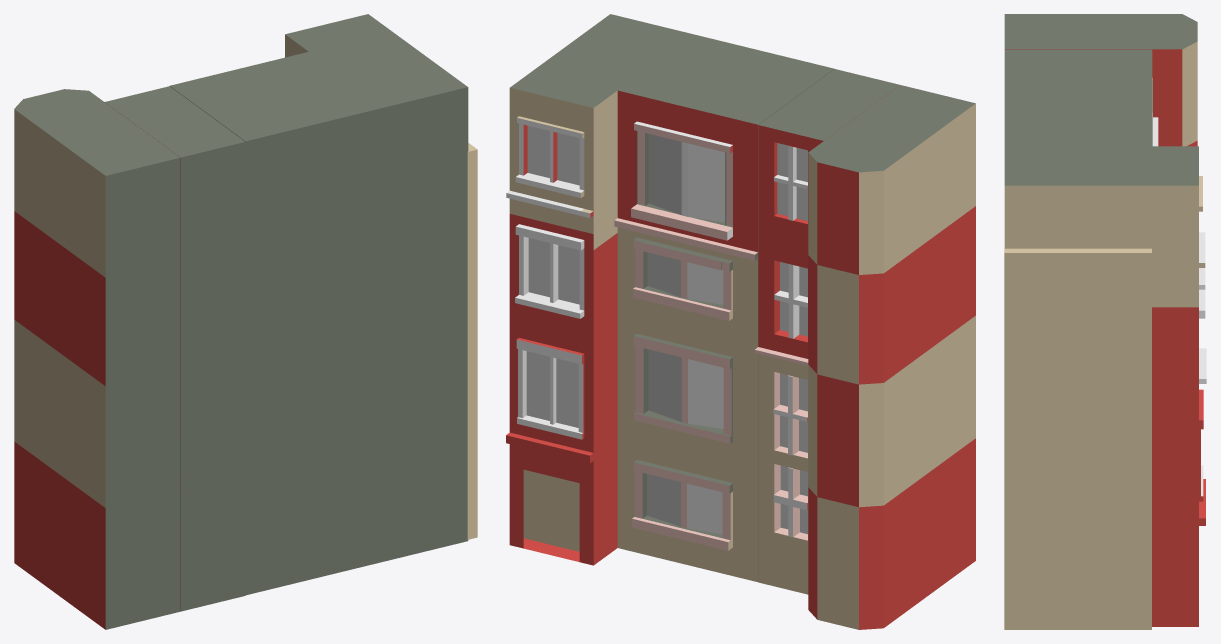
The model's file is manthon.fbx.
3 views of the same model, side by side, from view 1: azimuth 30°, elevation 25°; view 2: azimuth 150°, elevation 25°; view 3: azimuth 270°, elevation 25° (orthographic). The views are drawn at different scales.
Parts seen in each view (by area): view 1: 立方体.002, 立方体, 立方体.003, 立方体.001, 立方体.009; view 2: 立方体.002, 立方体, 立方体.003, 立方体.001; view 3: 立方体.009, 立方体.003, 立方体.002, 立方体, 立方体.001.
Boxes of the visible parts, x1,y1,x2,y2 form: 立方体.002: (14,89,180,629); 立方体: (170,52,385,595); 立方体.003: (285,14,468,560); 立方体.001: (105,86,245,611); 立方体.009: (467,143,477,539); 立方体.002: (808,85,975,629); 立方体: (614,34,834,581); 立方体.003: (506,14,693,565); 立方体.001: (754,69,899,594); 立方体.009: (1004,248,1151,629); 立方体.003: (1004,146,1206,626); 立方体.002: (1004,14,1197,146); 立方体: (1004,80,1158,146); 立方体.001: (1004,49,1152,116).
Bounding box in the file's own units: 1190 × 1389 × 577.
